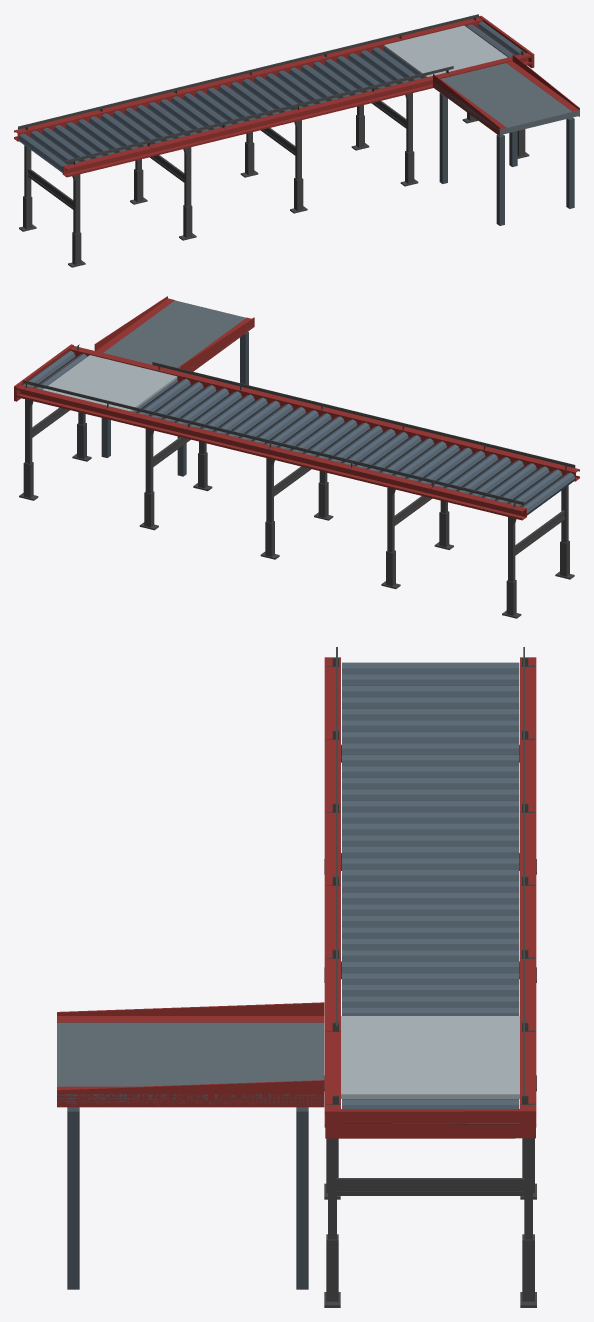
Rendered from cad-dyf.glb.
3 views of the same model, one above another, from view 1: azimuth 30°, elevation 25°; view 2: azimuth 150°, elevation 25°; view 3: azimuth 270°, elevation 25° (orthographic). The views are drawn at different scales.
Parts seen in each view (by area): view 1: cad-dyf_极简_深灰, cad-dyf_red metal__GLB, cad-dyf_gray metal__GLB, cad-dyf_belt_surface, cad-dyf_galvanized_steel, cad-dyf_graphite; view 2: cad-dyf_极简_深灰, cad-dyf_red metal__GLB, cad-dyf_gray metal__GLB, cad-dyf_belt_surface, cad-dyf_galvanized_steel, cad-dyf_graphite; view 3: cad-dyf_极简_深灰, cad-dyf_red metal__GLB, cad-dyf_belt_surface, cad-dyf_galvanized_steel, cad-dyf_gray metal__GLB, cad-dyf_graphite.
Part boxes in pixels (x1,y1,x2,y2): cad-dyf_极简_深灰: (18, 21, 525, 172); cad-dyf_red metal__GLB: (14, 15, 579, 177); cad-dyf_gray metal__GLB: (18, 14, 529, 267); cad-dyf_belt_surface: (433, 63, 579, 134); cad-dyf_galvanized_steel: (384, 25, 507, 77); cad-dyf_graphite: (439, 93, 574, 225); cad-dyf_极简_深灰: (23, 350, 575, 515); cad-dyf_red metal__GLB: (14, 296, 579, 520); cad-dyf_gray metal__GLB: (19, 344, 575, 618); cad-dyf_belt_surface: (103, 300, 254, 369); cad-dyf_galvanized_steel: (42, 355, 177, 411); cad-dyf_graphite: (101, 331, 248, 476); cad-dyf_极简_深灰: (342, 662, 519, 1124); cad-dyf_red metal__GLB: (57, 657, 536, 1138); cad-dyf_belt_surface: (57, 1022, 324, 1105); cad-dyf_galvanized_steel: (341, 1016, 519, 1098); cad-dyf_gray metal__GLB: (324, 647, 536, 1307); cad-dyf_graphite: (67, 1107, 308, 1289).
Size of the model in its own units: 3.96 by 0.8552 by 1.76.
